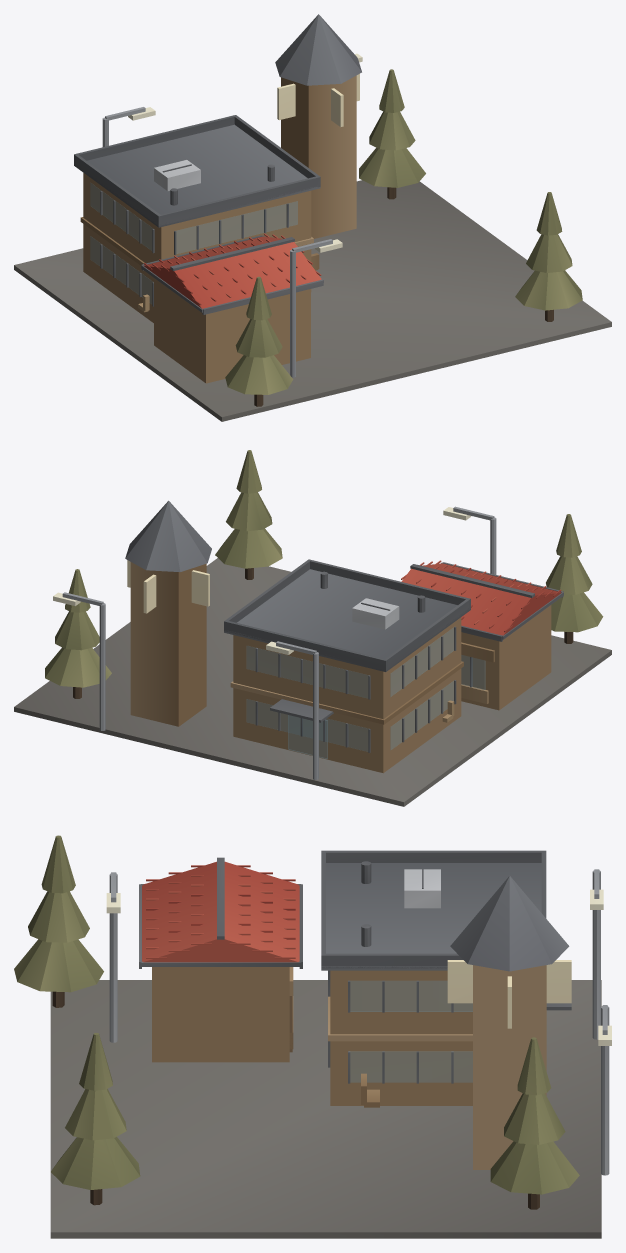
Rendered from Civic_P1.fbx.
3 views of the same model, one above another, from view 1: azimuth 30°, elevation 25°; view 2: azimuth 150°, elevation 25°; view 3: azimuth 270°, elevation 25° (orthographic). The views are drawn at different scales.
Visible parts, largest first — view 1: Civic.Plaza, Civic.Hall, Civic.Shop0, Civic.Tower, Civic.Tree2, Civic.Tree0, Civic.Tree1, Civic.Lamp0, Civic.Lamp2; view 2: Civic.Hall, Civic.Plaza, Civic.Tower, Civic.Shop0, Civic.Tree1, Civic.Tree0, Civic.Tree2, Civic.Lamp1, Civic.Lamp2, Civic.Lamp0; view 3: Civic.Plaza, Civic.Hall, Civic.Shop0, Civic.Tower, Civic.Tree2, Civic.Tree0, Civic.Tree1, Civic.Lamp0, Civic.Lamp1, Civic.Lamp2.
Part boxes in pixels (left/top/right/bottom): Civic.Plaza: left=14, top=180, right=611, bottom=421; Civic.Hall: left=74, top=115, right=320, bottom=322; Civic.Shop0: left=141, top=233, right=323, bottom=383; Civic.Tower: left=275, top=14, right=361, bottom=238; Civic.Tree2: left=225, top=276, right=293, bottom=406; Civic.Tree0: left=359, top=69, right=425, bottom=199; Civic.Tree1: left=515, top=192, right=582, bottom=321; Civic.Lamp0: left=290, top=239, right=342, bottom=377; Civic.Lamp2: left=102, top=107, right=155, bottom=146; Civic.Hall: left=224, top=559, right=470, bottom=773; Civic.Plaza: left=14, top=558, right=611, bottom=806; Civic.Tower: left=125, top=500, right=211, bottom=726; Civic.Shop0: left=401, top=560, right=563, bottom=710; Civic.Tree1: left=215, top=450, right=282, bottom=579; Civic.Tree0: left=45, top=569, right=111, bottom=698; Civic.Tree2: left=546, top=514, right=603, bottom=643; Civic.Lamp1: left=53, top=592, right=105, bottom=730; Civic.Lamp2: left=266, top=641, right=318, bottom=779; Civic.Lamp0: left=443, top=506, right=496, bottom=574; Civic.Plaza: left=50, top=980, right=601, bottom=1238; Civic.Hall: left=321, top=850, right=571, bottom=1105; Civic.Shop0: left=139, top=857, right=302, bottom=1062; Civic.Tower: left=447, top=876, right=571, bottom=1169; Civic.Tree2: left=14, top=835, right=103, bottom=1007; Civic.Tree0: left=490, top=1037, right=579, bottom=1209; Civic.Tree1: left=51, top=1033, right=140, bottom=1205; Civic.Lamp0: left=106, top=872, right=120, bottom=1042; Civic.Lamp1: left=598, top=1005, right=611, bottom=1175; Civic.Lamp2: left=590, top=869, right=603, bottom=1039.
Size of the model in its own units: 2600 by 1371 by 2604.
